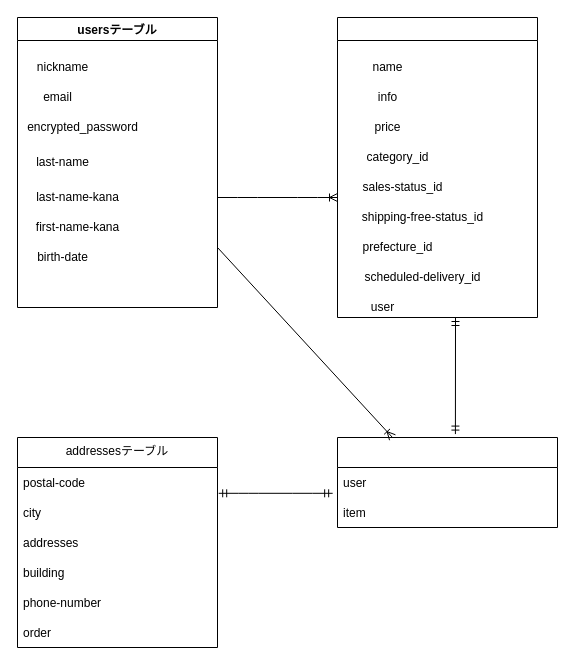
The diagram is 575 pixels wide and 665 high, and some of its shapes have lost their labels. Each missing label, with the box of its shape:
itemsテーブル: (336, 16, 538, 318)
orders: (336, 436, 558, 528)
